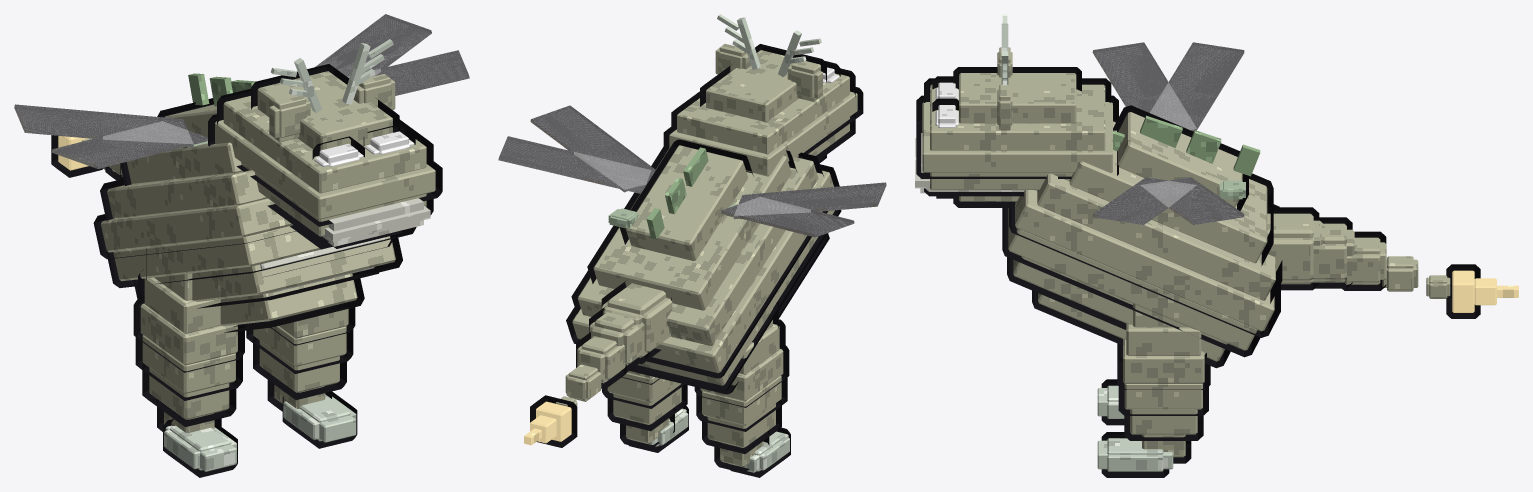
The model's file is prehistoric_rex_00.glb.
The picture shows the model from 3 angles, left to right: view 1: azimuth 30°, elevation 25°; view 2: azimuth 150°, elevation 25°; view 3: azimuth 270°, elevation 25°; orthographic projection. The views are drawn at different scales.
Visible parts, largest first — view 1: model; view 2: model; view 3: model.
Boxes of the visible parts, x1,y1,x2,y2 form: model: (14, 14, 469, 477); model: (498, 14, 886, 477); model: (915, 14, 1518, 477).
Size of the model in its own units: 2.25 by 2.37 by 3.19.
11 materials, 10 textured.
